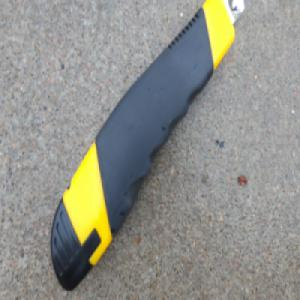Cutter: (50, 0, 247, 292)
